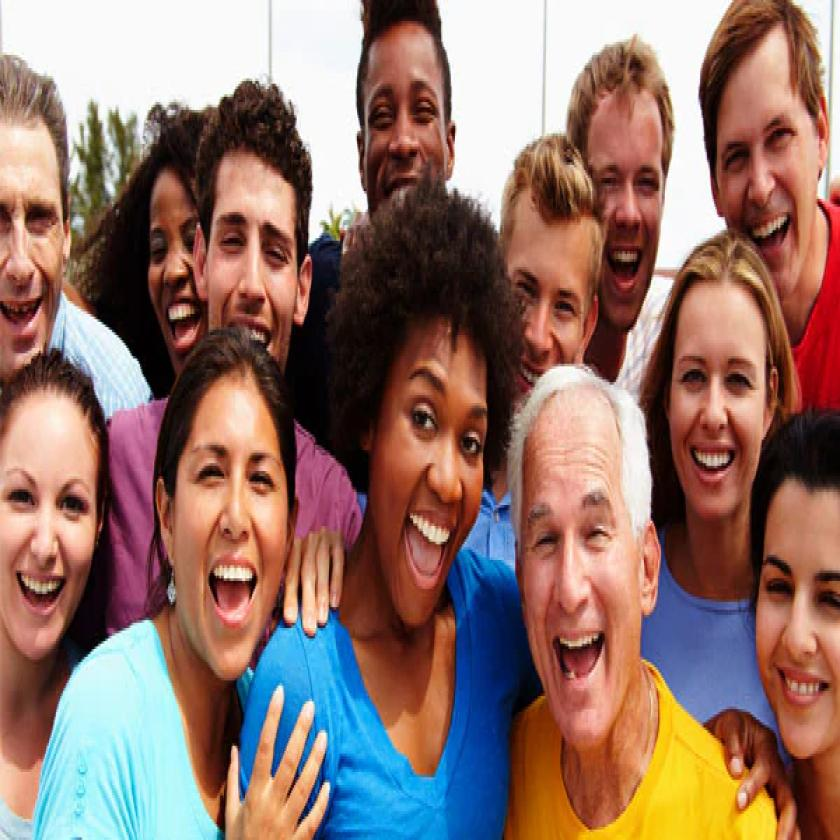Sin_casco: (357, 176, 504, 690), (513, 362, 656, 772), (167, 326, 302, 710), (665, 227, 797, 580), (694, 0, 836, 319), (200, 70, 319, 428), (568, 20, 681, 369), (0, 351, 118, 680), (740, 401, 840, 763), (506, 125, 610, 452), (346, 0, 468, 226), (0, 43, 77, 392), (130, 109, 217, 362)
